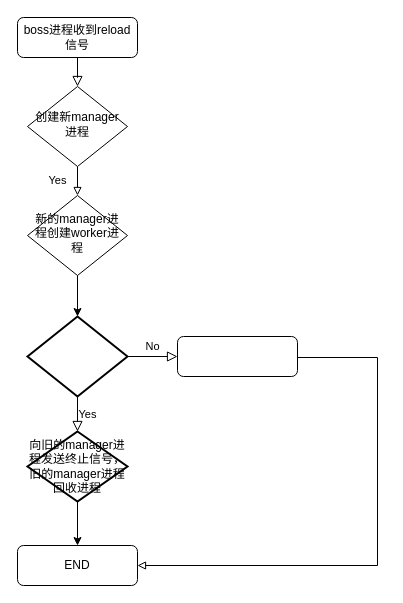
Image size: 403x603. Some labels were removed from this diagram. The box of each missing label's shape, as (x1, y1, x2, y2) in pixels:
新的worker进程是否全部创建完成: (26, 315, 128, 397)
记录错误信息，旧的manager进程和worker进程不退出。: (176, 336, 298, 376)
